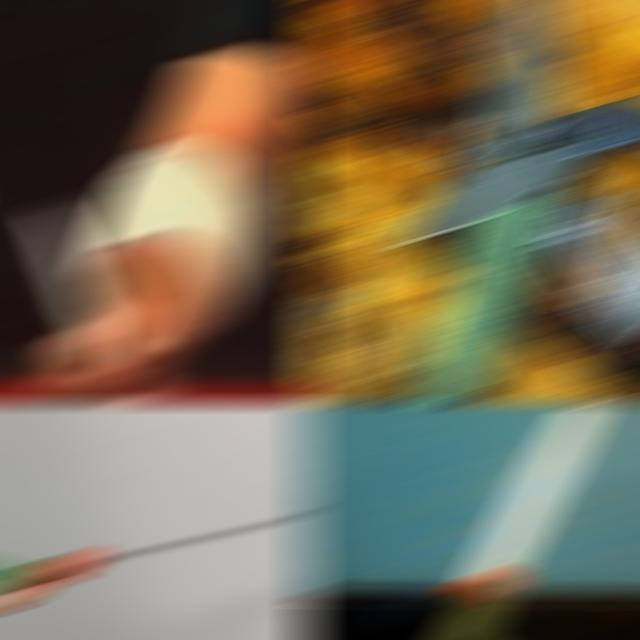Knife: (430, 406, 612, 638), (0, 514, 317, 589), (28, 203, 120, 358)
Knife_Handle: (21, 198, 197, 400)
